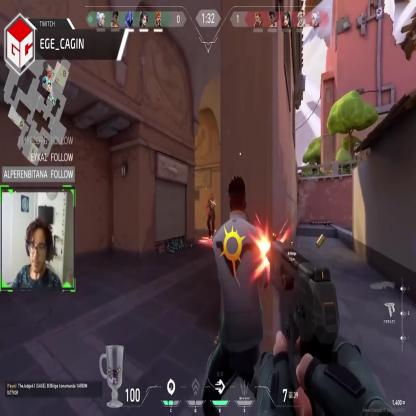enemy: (206, 193, 216, 240)
enemy_head: (210, 193, 213, 201)
